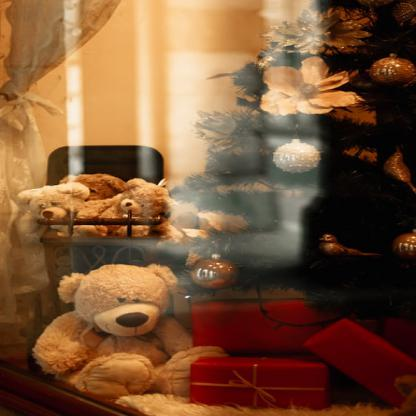present: (301, 314, 410, 397), (180, 353, 336, 407), (178, 298, 334, 350)
x_mas tree: (213, 0, 415, 280)
